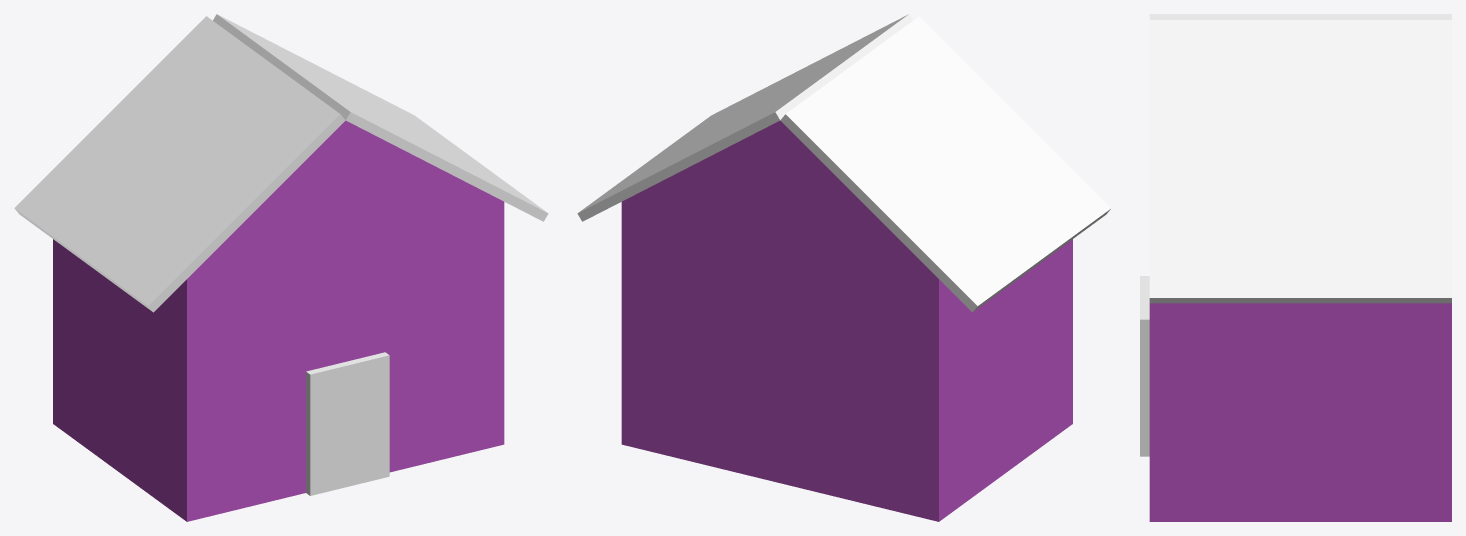
File: casa2.fbx
3 views of the same model, side by side, from view 1: azimuth 30°, elevation 25°; view 2: azimuth 150°, elevation 25°; view 3: azimuth 270°, elevation 25° (orthographic). The views are drawn at different scales.
Visible parts, largest first — view 1: Cube; view 2: Cube; view 3: Cube.
Boxes of the visible parts, <box> form: Cube: <box>14,14,548,521</box>; Cube: <box>577,14,1111,521</box>; Cube: <box>1140,14,1451,521</box>.
Size of the model in its own units: 345 by 305 by 206.
